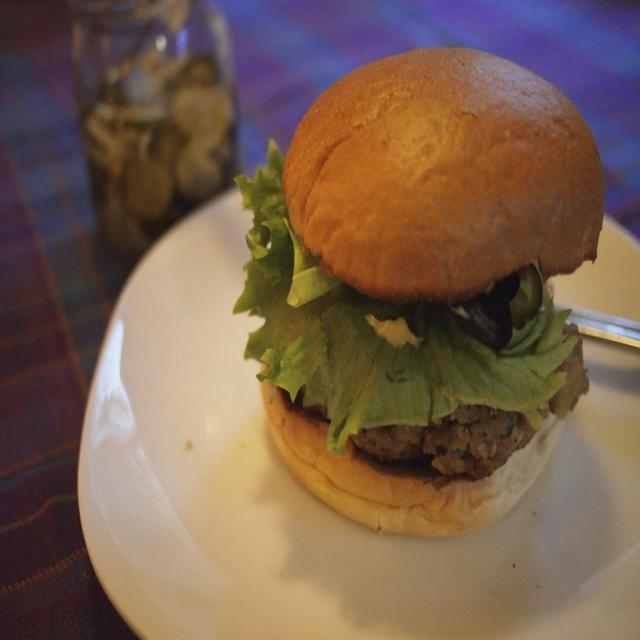Hamburger: (230, 46, 604, 538)
